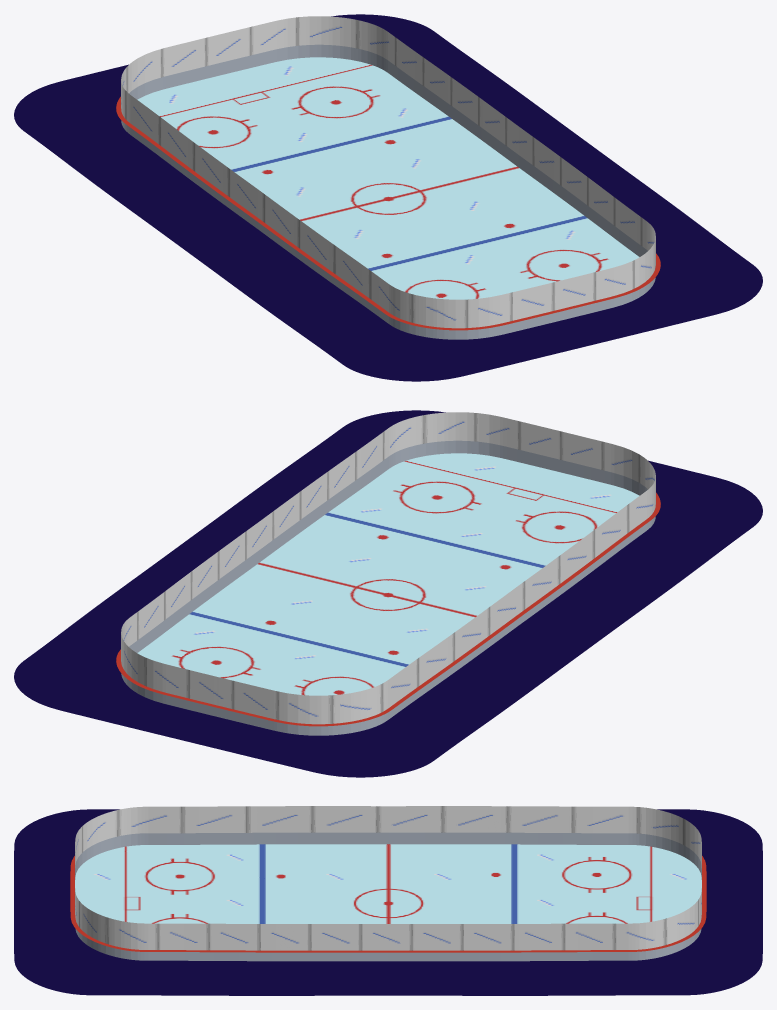
The model's file is HockeyRink.glb.
3 views of the same model, one above another, from view 1: azimuth 30°, elevation 25°; view 2: azimuth 150°, elevation 25°; view 3: azimuth 270°, elevation 25° (orthographic). The views are drawn at different scales.
Visible parts, largest first — view 1: Field.001, HockeyFloorOutside, HockeyGlass, HockeyFloor, HockeyFloorInside; view 2: Field.001, HockeyFloorOutside, HockeyGlass, HockeyFloor, HockeyFloorInside; view 3: Field.001, HockeyFloorOutside, HockeyGlass, HockeyFloor, HockeyFloorInside.
Boxes of the visible parts, <box> form: Field.001: <box>137,57,639,299</box>; HockeyFloorOutside: <box>14,14,762,381</box>; HockeyGlass: <box>121,16,655,328</box>; HockeyFloor: <box>121,44,655,339</box>; HockeyFloorInside: <box>116,96,660,330</box>; Field.001: <box>137,453,639,695</box>; HockeyFloorOutside: <box>14,410,762,777</box>; HockeyGlass: <box>121,412,655,724</box>; HockeyFloor: <box>121,440,655,735</box>; HockeyFloorInside: <box>116,492,660,726</box>; Field.001: <box>75,844,701,923</box>; HockeyFloorOutside: <box>14,809,762,995</box>; HockeyGlass: <box>75,806,701,950</box>; HockeyFloor: <box>75,832,701,961</box>; HockeyFloorInside: <box>70,856,706,952</box>.
Size of what is drawn, in the model's own units: 1.58 by 0.1613 by 2.67.
Materials: 5 (2 with a texture image).
